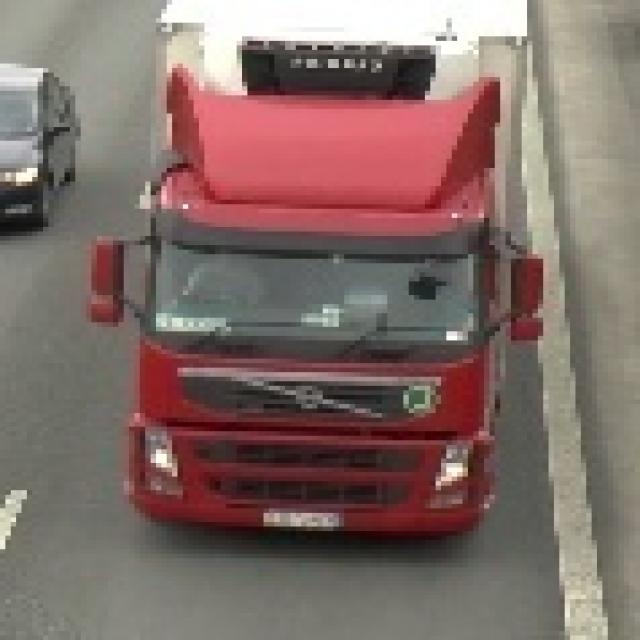truck: (80, 0, 538, 545)
